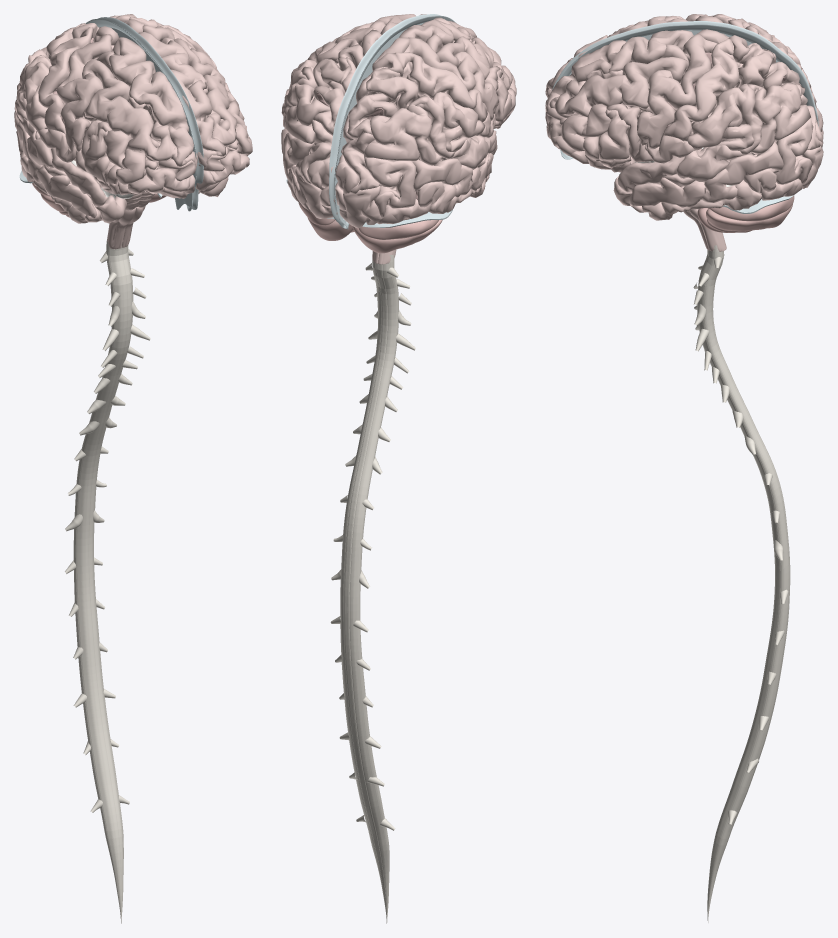
The model's file is cns.glb.
3 views of the same model, side by side, from view 1: azimuth 30°, elevation 25°; view 2: azimuth 150°, elevation 25°; view 3: azimuth 270°, elevation 25° (orthographic).
Visible parts, largest first — view 1: Spinal dura, Middle frontal gyrus (R), Superior frontal gyrus (R), Precentral gyrus (R), Superior frontal gyrus (L), Falx cerebri, Middle frontal gyrus (L), Postcentral gyrus (R), Middle temporal gyrus (R), Superior temporal gyrus (Lateral part) (R), Supramarginal gyrus (R), Orbital gyri (Frontomarginal gyrus and sulcus) (R) (+9 smaller); view 2: Spinal dura, Angular gyrus (R), Falx cerebri, Superior parietal lobule (R), Postcentral gyrus (R), Supramarginal gyrus (R), Lateral occipital gyrus (Middle occipital gyrus) (R), Precentral gyrus (R), Angular gyrus (L), Middle temporal gyrus (R), Superior parietal lobule (L), Middle frontal gyrus (R) (+18 smaller); view 3: Spinal dura, Middle frontal gyrus (L), Precentral gyrus (L), Middle temporal gyrus (L), Superior frontal gyrus (L), Falx cerebri, Postcentral gyrus (L), Supramarginal gyrus (L), Superior temporal gyrus (Lateral part) (L), Angular gyrus (L), Inferior temporal gyrus (L), Superior parietal lobule (L) (+11 smaller).
Boxes of the visible parts, x1=… form: Spinal dura: x1=65, y1=241, x2=150, y2=923; Middle frontal gyrus (R): x1=82, y1=59, x2=177, y2=184; Superior frontal gyrus (R): x1=109, y1=37, x2=197, y2=168; Precentral gyrus (R): x1=57, y1=34, x2=112, y2=151; Superior frontal gyrus (L): x1=138, y1=32, x2=225, y2=167; Falx cerebri: x1=85, y1=17, x2=203, y2=211; Middle frontal gyrus (L): x1=173, y1=38, x2=252, y2=154; Postcentral gyrus (R): x1=38, y1=27, x2=93, y2=134; Middle temporal gyrus (R): x1=14, y1=111, x2=96, y2=218; Superior temporal gyrus (Lateral part) (R): x1=20, y1=118, x2=107, y2=207; Supramarginal gyrus (R): x1=14, y1=56, x2=51, y2=133; Orbital gyri (Frontomarginal gyrus and sulcus) (R): x1=127, y1=163, x2=190, y2=193; Spinal dura: x1=330, y1=254, x2=415, y2=923; Angular gyrus (R): x1=364, y1=95, x2=442, y2=165; Falx cerebri: x1=329, y1=14, x2=455, y2=229; Superior parietal lobule (R): x1=347, y1=67, x2=418, y2=139; Postcentral gyrus (R): x1=395, y1=52, x2=487, y2=122; Supramarginal gyrus (R): x1=415, y1=92, x2=485, y2=159; Lateral occipital gyrus (Middle occipital gyrus) (R): x1=364, y1=157, x2=415, y2=217; Precentral gyrus (R): x1=404, y1=37, x2=498, y2=120; Angular gyrus (L): x1=283, y1=66, x2=330, y2=143; Middle temporal gyrus (R): x1=412, y1=153, x2=493, y2=197; Superior parietal lobule (L): x1=313, y1=57, x2=351, y2=131; Middle frontal gyrus (R): x1=436, y1=36, x2=516, y2=95; Spinal dura: x1=693, y1=245, x2=790, y2=921; Middle frontal gyrus (L): x1=549, y1=57, x2=688, y2=151; Precentral gyrus (L): x1=637, y1=33, x2=717, y2=149; Middle temporal gyrus (L): x1=629, y1=141, x2=783, y2=207; Superior frontal gyrus (L): x1=545, y1=30, x2=693, y2=111; Falx cerebri: x1=552, y1=21, x2=818, y2=167; Postcentral gyrus (L): x1=662, y1=38, x2=739, y2=141; Supramarginal gyrus (L): x1=687, y1=83, x2=762, y2=155; Superior temporal gyrus (Lateral part) (L): x1=617, y1=145, x2=743, y2=192; Angular gyrus (L): x1=747, y1=83, x2=810, y2=154; Inferior temporal gyrus (L): x1=642, y1=168, x2=779, y2=220; Superior parietal lobule (L): x1=738, y1=44, x2=805, y2=95.
Size of the model in its own units: 0.141 by 0.6611 by 0.185.
